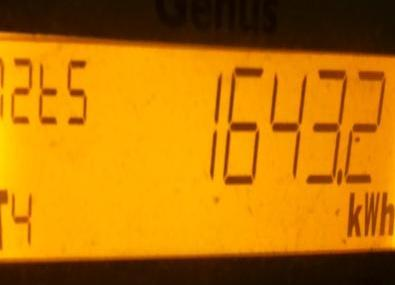.: (342, 189, 395, 244)
0: (335, 169, 344, 187)
2: (202, 66, 226, 188)
4: (308, 67, 347, 189)
5: (265, 69, 308, 187)
6: (344, 65, 387, 188)
7: (221, 64, 263, 189)
